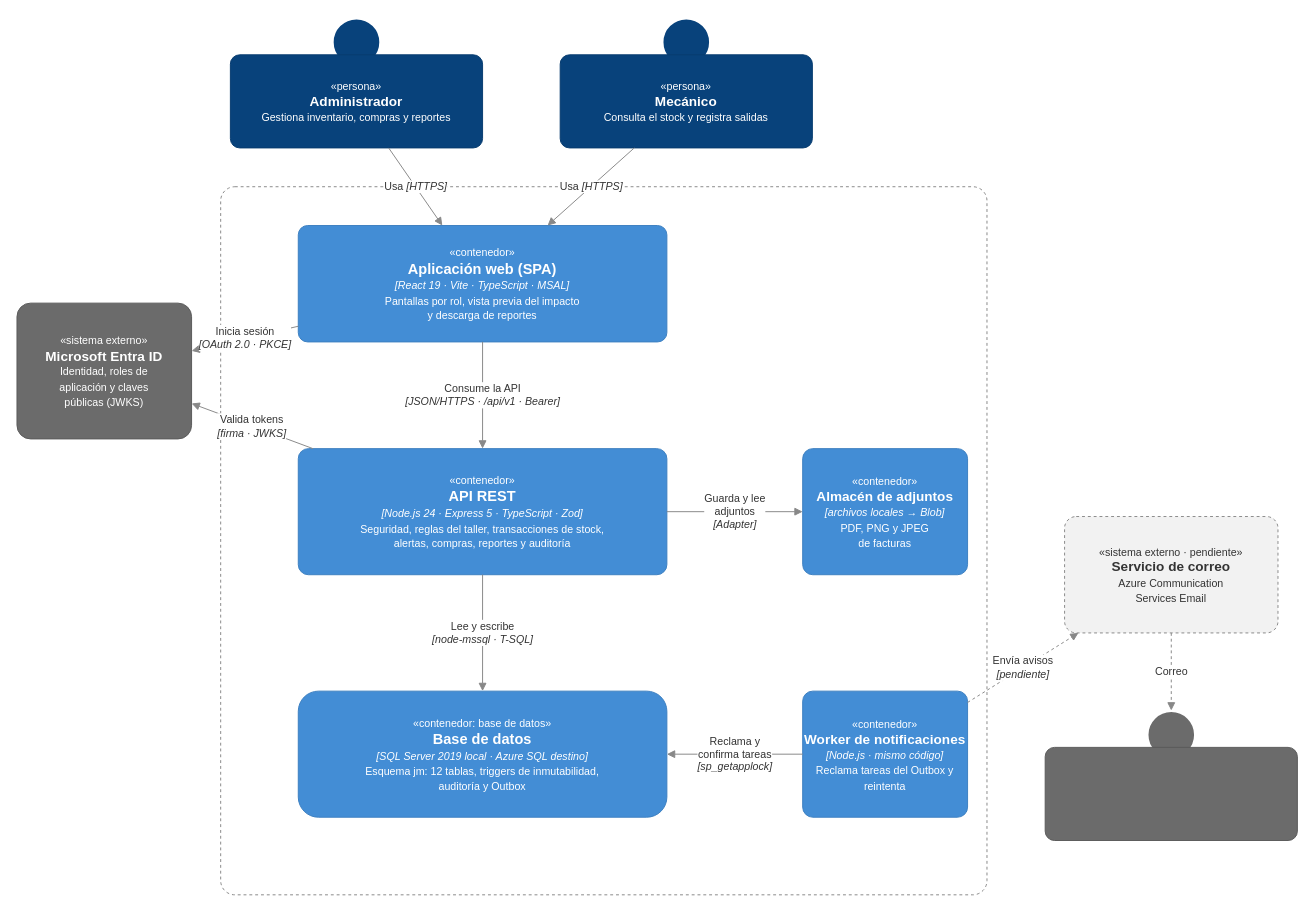
This 1314x912 diagram has some shape labels left out. The shapes that lost their labels are listed below. From the top down, each one's box as (x1, y1, x2, y2) in pixels, then its label:
(220, 186, 987, 895): Sistema de Gestión de Inventario “Jorge Motors” [sistema de software]
(1044, 746, 1297, 841): «persona externa» Proveedor Recibe el aviso de reposición
